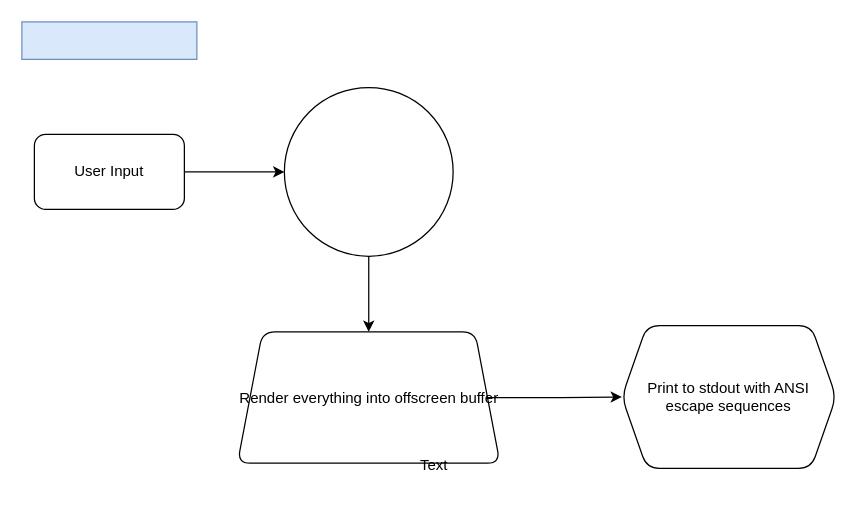
The diagram is 859 pixels wide and 506 high, and some of its shapes have lost their labels. The box of each missing label's shape, as (x1, y1, x2, y2) in pixels:
Data model (AST) using tree sitter for parsing MD (not nom): (283, 86, 453, 256)
New architecture: (21, 21, 197, 59)
